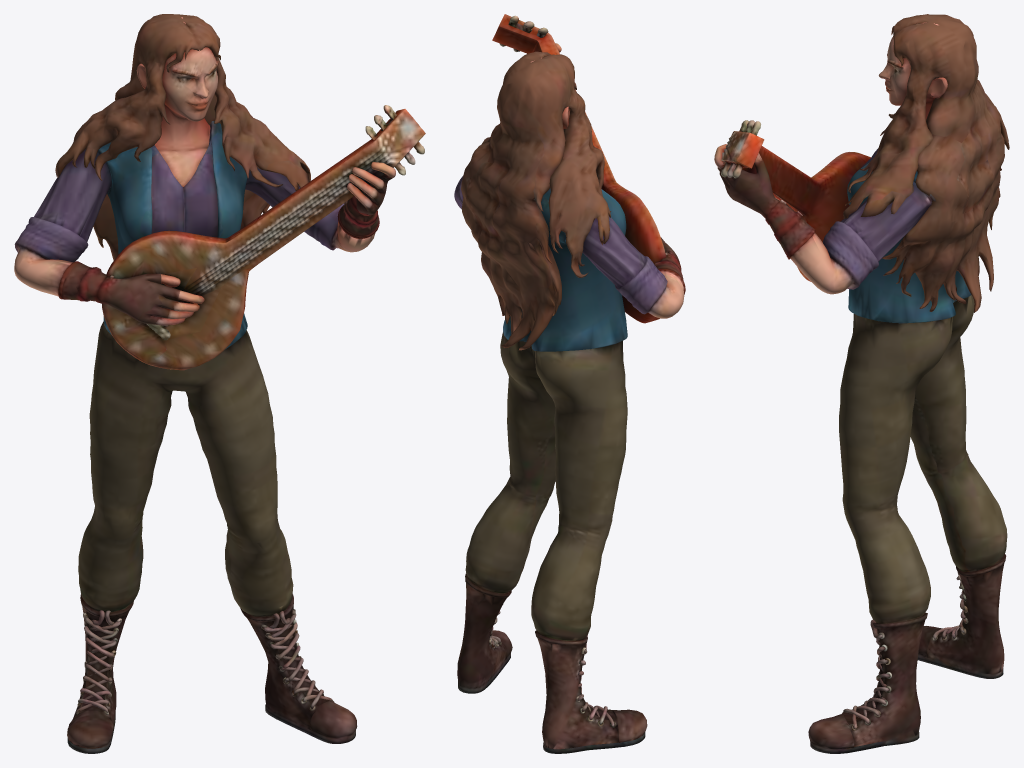
The model's file is MZ4250 - Human Female Bard 3_a.glb.
3 views of the same model, side by side, from view 1: azimuth 30°, elevation 25°; view 2: azimuth 150°, elevation 25°; view 3: azimuth 270°, elevation 25° (orthographic). The views are drawn at different scales.
Parts seen in each view (by area): view 1: Body.003; view 2: Body.003; view 3: Body.003.
Part boxes in pixels (x1,y1,x2,y2): Body.003: [14, 14, 425, 753]; Body.003: [454, 14, 685, 753]; Body.003: [714, 14, 1009, 753].
Bounding box in the file's own units: 40.57 × 90.66 × 35.82.
Materials: 2 (2 with a texture image).
